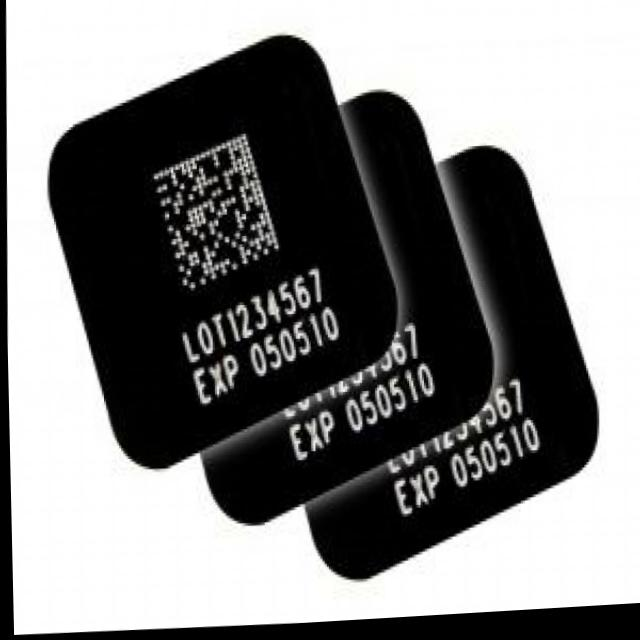datamatrix: (133, 125, 289, 301)
